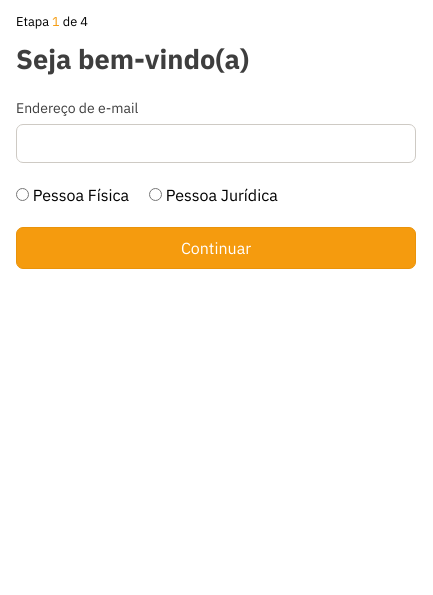
it: should show error messages when required fields are empty and submit is clicked
The width and height of the screenshot is (433, 595).
Type "test@example.com" into the field labelled "Endereço de e-mail" at {"x": 216, "y": 144}, box [16, 124, 416, 163]
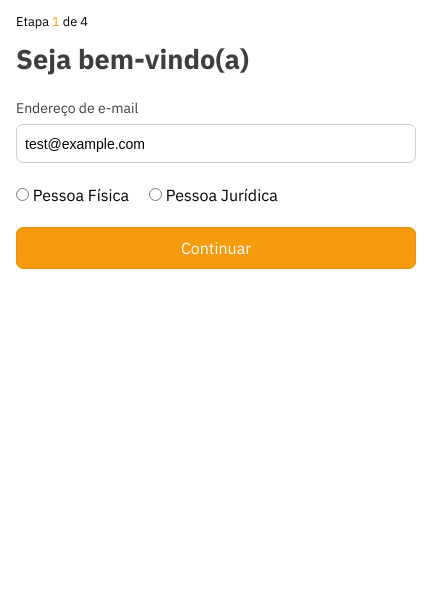
Click the radio button labelled "Pessoa Física" at {"x": 22, "y": 194}, box [16, 188, 29, 201]
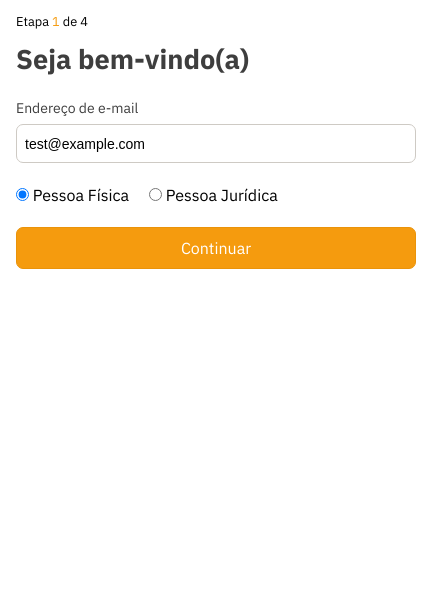
Click the button "Continuar" at {"x": 216, "y": 248}, box [16, 227, 416, 269]
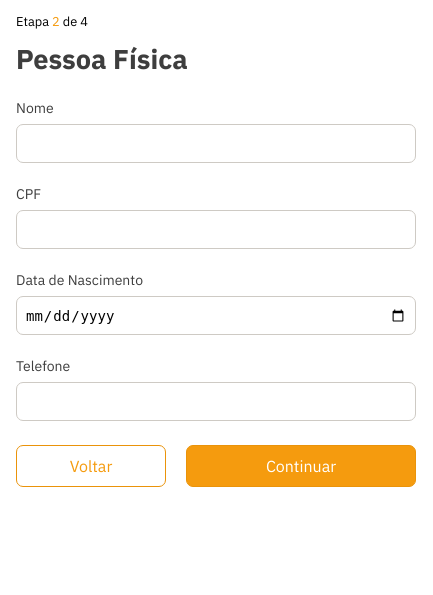
Click the button "Continuar" at {"x": 301, "y": 466}, box [186, 445, 416, 487]
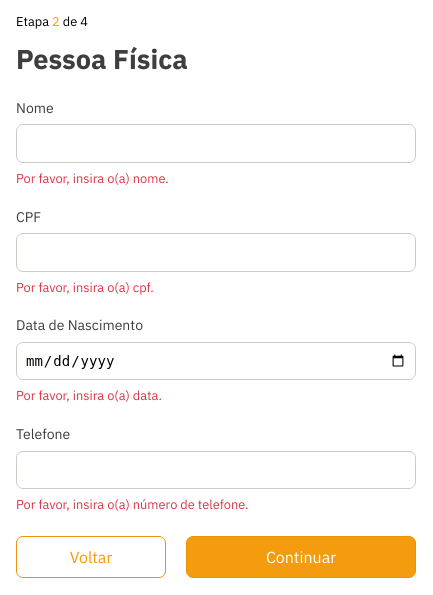
Expected: the text "Por favor, insira o(a) nome." is shown, [16, 170, 169, 187]
Expected: the text "Por favor, insira o(a) cpf." is shown, [16, 279, 154, 296]
Expected: the text "Por favor, insira o(a) data." is shown, [16, 387, 162, 404]
